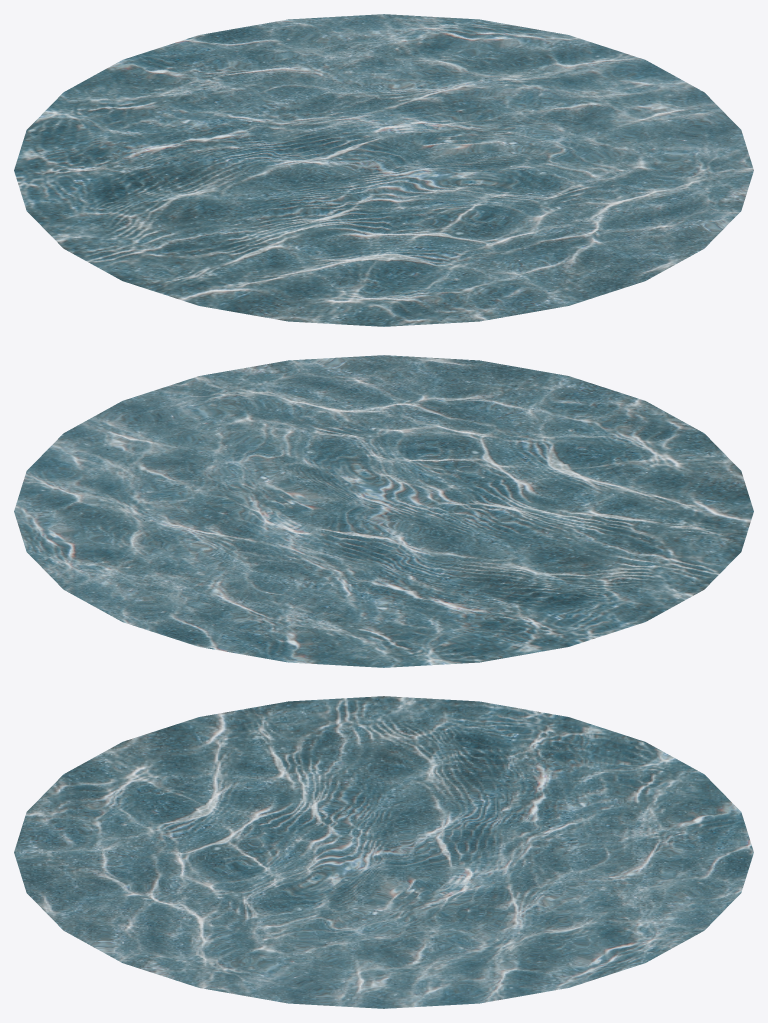
Rendered from Agua.obj.
3 views of the same model, one above another, from view 1: azimuth 30°, elevation 25°; view 2: azimuth 150°, elevation 25°; view 3: azimuth 270°, elevation 25° (orthographic).
Parts seen in each view (by area): view 1: pDisc1; view 2: pDisc1; view 3: pDisc1.
Part boxes in pixels (box(x1,y1,x2,y2)): pDisc1: box(14, 14, 753, 326); pDisc1: box(14, 355, 753, 667); pDisc1: box(14, 696, 753, 1008).
Bounding box in the file's own units: 2.94 × 0 × 2.94.
Materials: 1 (1 with a texture image).
